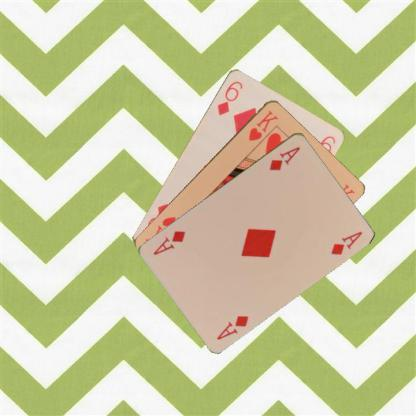6d: (214, 78, 244, 117)
Ad: (266, 143, 302, 172), (214, 312, 250, 341)
Kh: (246, 108, 280, 142)
